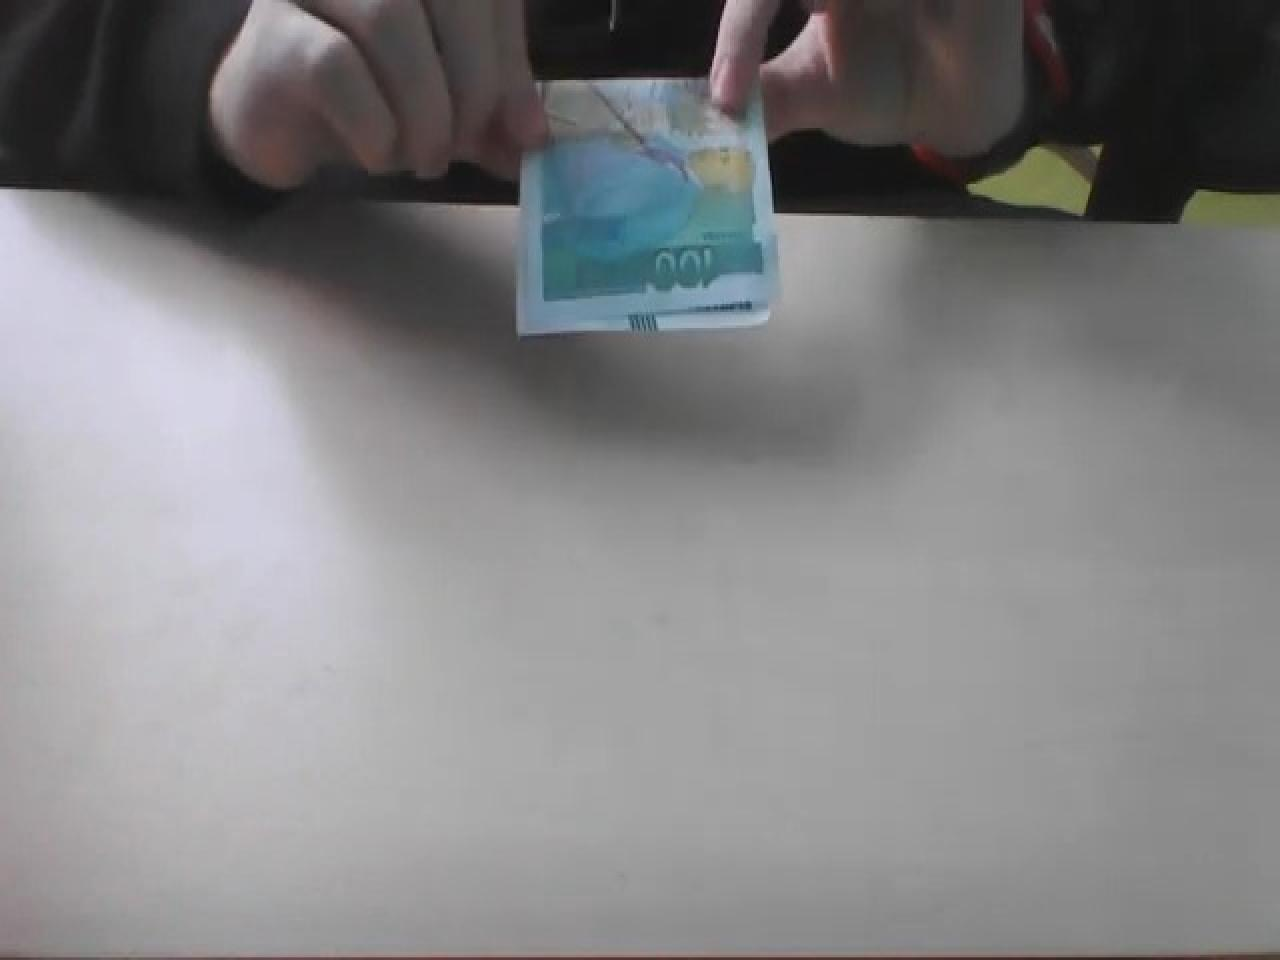100leva: (516, 72, 782, 341)
